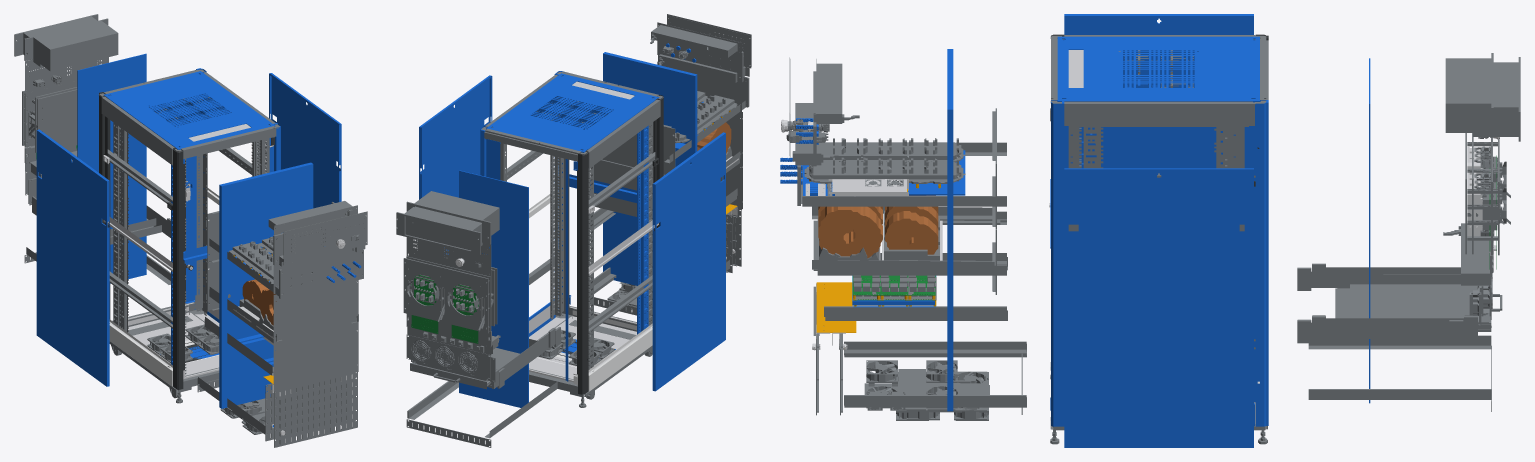
File: little-blue-exploded.glb
3 renders of one model, left to right at view 1: azimuth 30°, elevation 25°; view 2: azimuth 150°, elevation 25°; view 3: azimuth 270°, elevation 25°, orthographic. The views are drawn at different scales.
Size of the model in its own units: 1.35 by 1.39 by 2.72.
